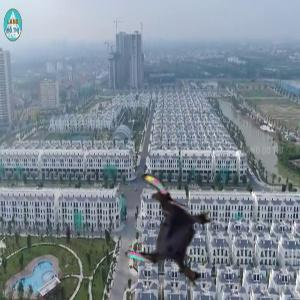drone: (117, 177, 227, 287)
